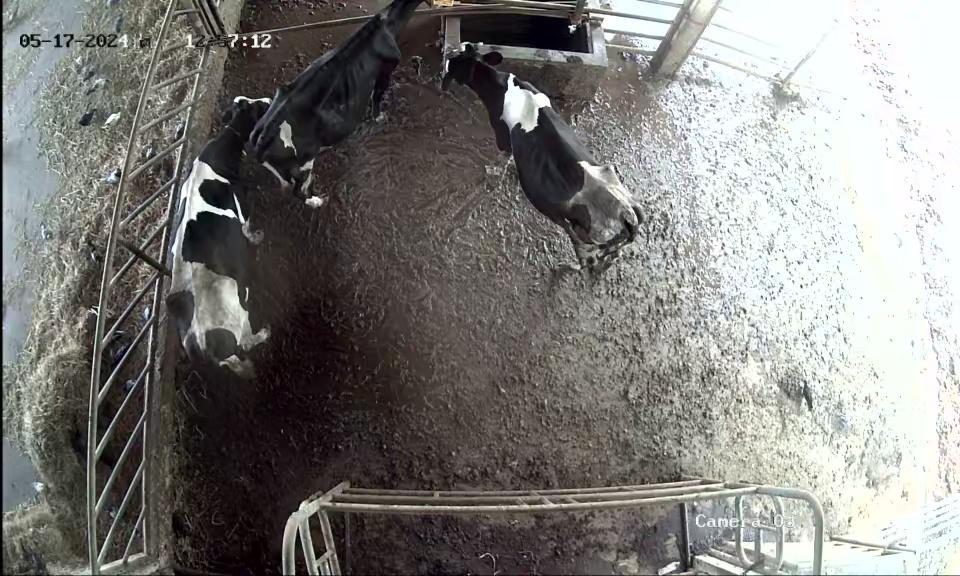stand: (437, 42, 650, 284), (247, 0, 429, 222), (158, 88, 288, 388)
